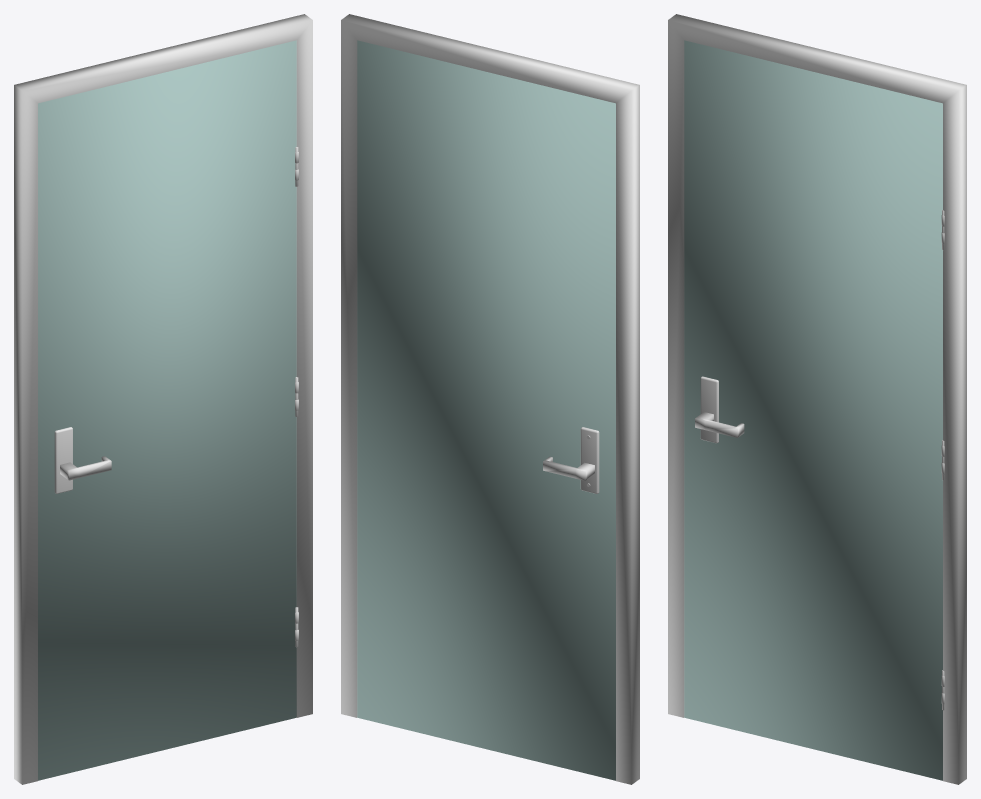
File: Door_3.fbx
3 views of the same model, side by side, from view 1: azimuth 30°, elevation 25°; view 2: azimuth 150°, elevation 25°; view 3: azimuth 330°, elevation 25° (orthographic).
Parts seen in each view (by area): view 1: Door_3, Frame, Door_Knob_Holder, Door_Knob_Inside, Door; view 2: Door_3, Frame, Door_Knob_Holder, Door_Knob_Outside, Door; view 3: Door_3, Frame, Door_Knob_Holder, Door_Knob_Inside, Door.
Boxes of the visible parts, x1=… form: Door_3: x1=38, y1=40, x2=296, y2=780; Frame: x1=14, y1=14, x2=312, y2=784; Door_Knob_Holder: x1=54, y1=427, x2=72, y2=493; Door_Knob_Inside: x1=60, y1=456, x2=111, y2=480; Door: x1=296, y1=40, x2=296, y2=717; Door_3: x1=357, y1=40, x2=615, y2=780; Frame: x1=341, y1=14, x2=639, y2=784; Door_Knob_Holder: x1=580, y1=427, x2=599, y2=493; Door_Knob_Outside: x1=543, y1=456, x2=594, y2=480; Door: x1=357, y1=40, x2=357, y2=717; Door_3: x1=684, y1=40, x2=942, y2=780; Frame: x1=668, y1=14, x2=966, y2=784; Door_Knob_Holder: x1=700, y1=376, x2=718, y2=443; Door_Knob_Inside: x1=695, y1=412, x2=744, y2=437; Door: x1=684, y1=40, x2=684, y2=717.
Size of the model in its own units: 0.92 by 2.1 by 0.1557.
